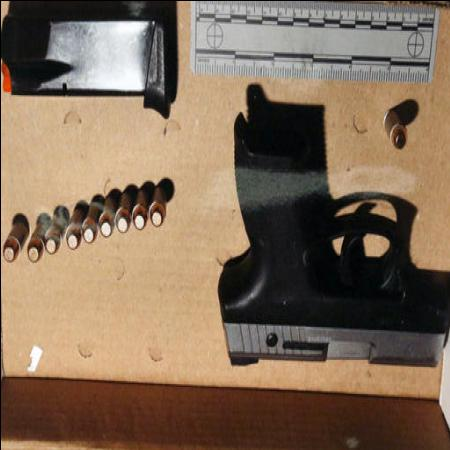Pistol: (216, 117, 449, 369)
